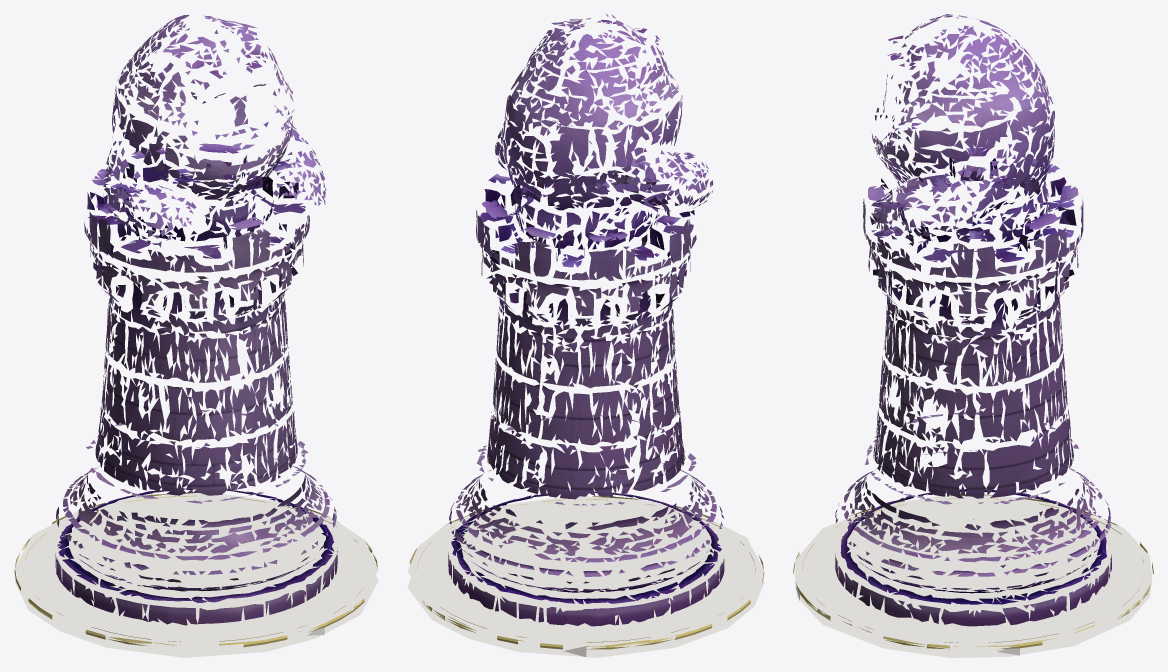
Rendered from rook-pupurabbu-10k.glb.
3 views of the same model, side by side, from view 1: azimuth 30°, elevation 25°; view 2: azimuth 150°, elevation 25°; view 3: azimuth 270°, elevation 25° (orthographic). The views are drawn at different scales.
Visible parts, largest first — view 1: tmphnh_48ja.ply, FactionPedestal, FactionTrimRing; view 2: tmphnh_48ja.ply, FactionPedestal, FactionTrimRing; view 3: tmphnh_48ja.ply, FactionPedestal, FactionTrimRing.
Part boxes in pixels (x1,y1,x2,y2): tmphnh_48ja.ply: (55,14,337,625); FactionPedestal: (14,493,378,657); FactionTrimRing: (14,493,377,647); tmphnh_48ja.ply: (448,14,724,626); FactionPedestal: (407,496,764,657); FactionTrimRing: (409,496,764,649); tmphnh_48ja.ply: (835,14,1111,626); FactionPedestal: (794,495,1152,657); FactionTrimRing: (793,494,1153,649).
Bounding box in the file's own units: 0.7409 × 1.28 × 0.744.
Materials: 3 (1 with a texture image).
